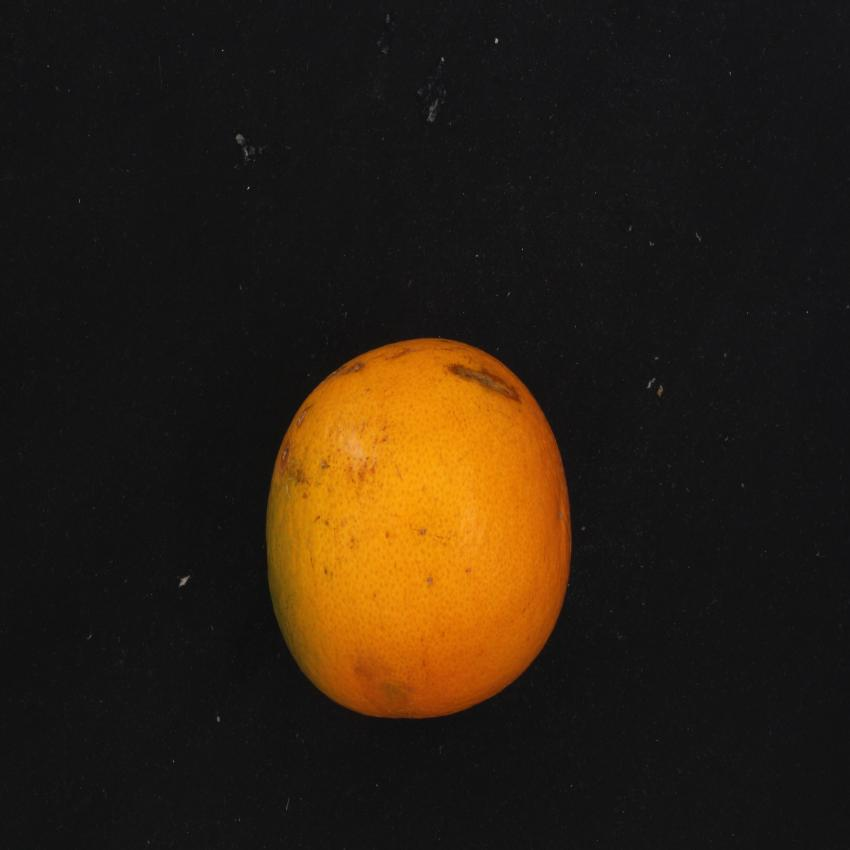Mal estado: (254, 326, 582, 738)
